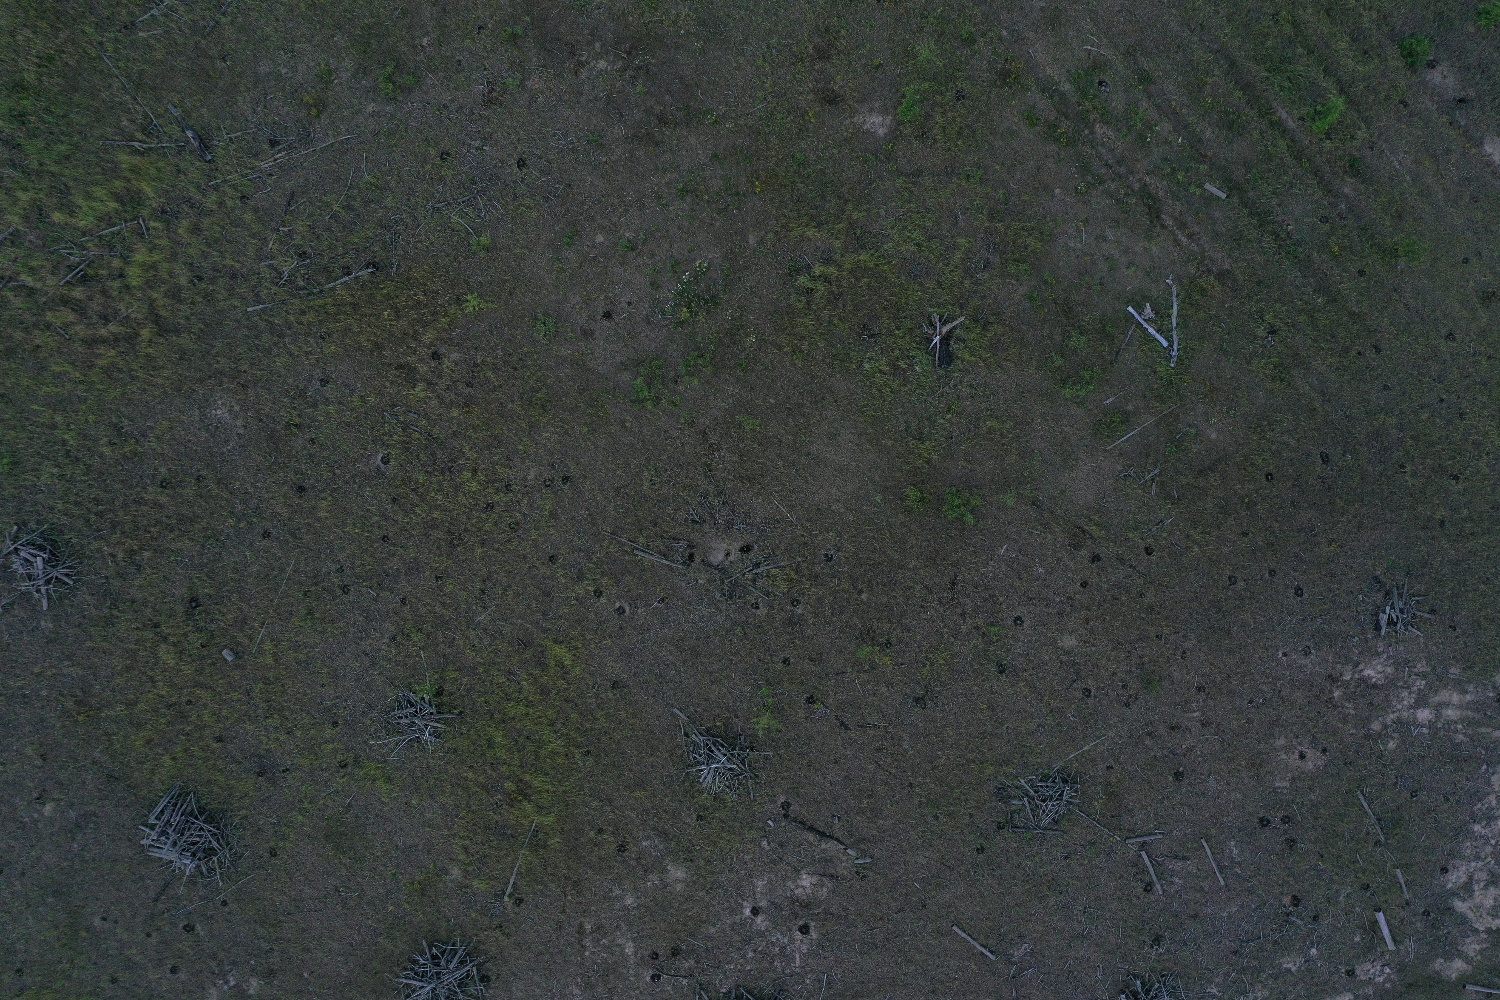branches: (138, 785, 241, 886), (682, 729, 775, 804), (1, 526, 79, 610), (384, 940, 485, 1000), (371, 690, 456, 758), (1009, 768, 1081, 833)
